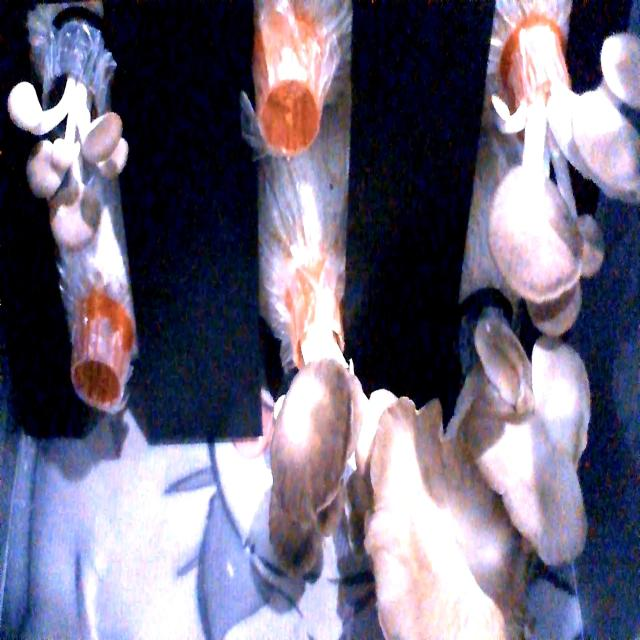big: (359, 345, 603, 634), (458, 24, 640, 319), (251, 334, 423, 594)
nfound: (239, 63, 344, 168), (67, 324, 142, 438)
small: (2, 74, 140, 255)
